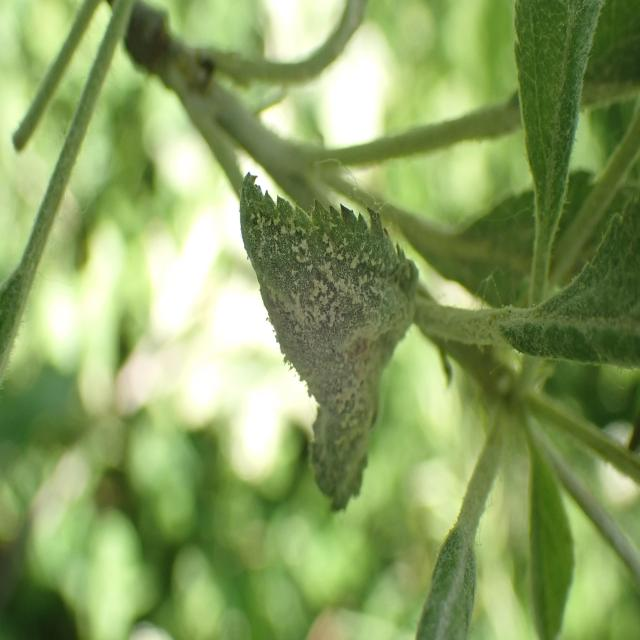Powdery_mildew: (227, 167, 427, 516), (509, 0, 610, 321), (489, 194, 640, 388), (405, 506, 488, 640)
